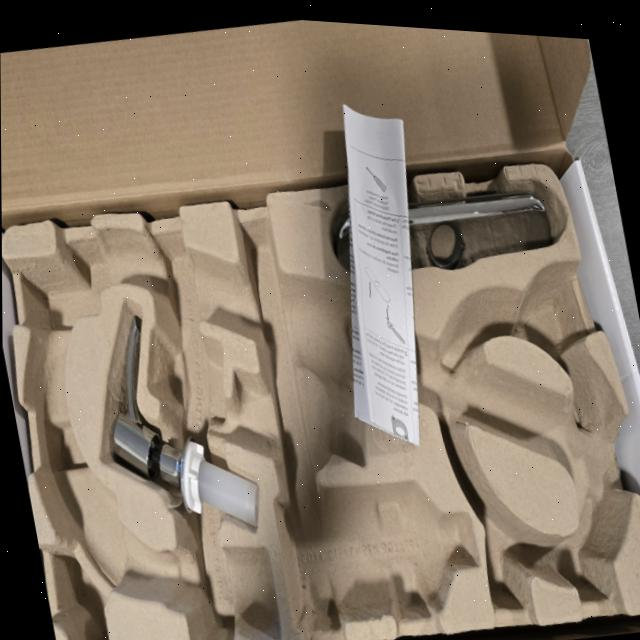1m: (31, 233, 637, 640)
2: (112, 310, 257, 527)
3m: (273, 479, 479, 627)
4o: (333, 191, 553, 268)
5m: (520, 285, 569, 347)
6m: (553, 487, 624, 597)
7m: (467, 469, 537, 602)
8: (344, 103, 421, 451)
